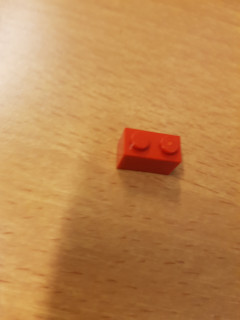1x2 red: (117, 127, 182, 176)
